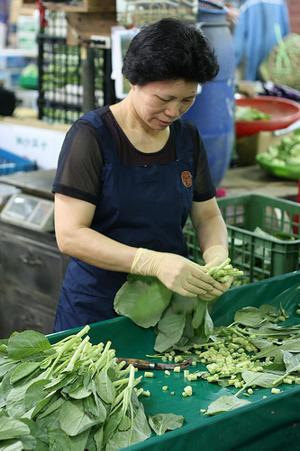person: (53, 14, 234, 333)
